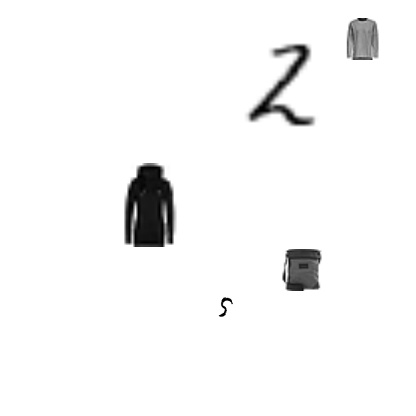2: (226, 29, 338, 141)
5: (210, 291, 238, 319)
Bag: (281, 249, 323, 291)
Pullover: (107, 163, 191, 247), (341, 18, 383, 60)
